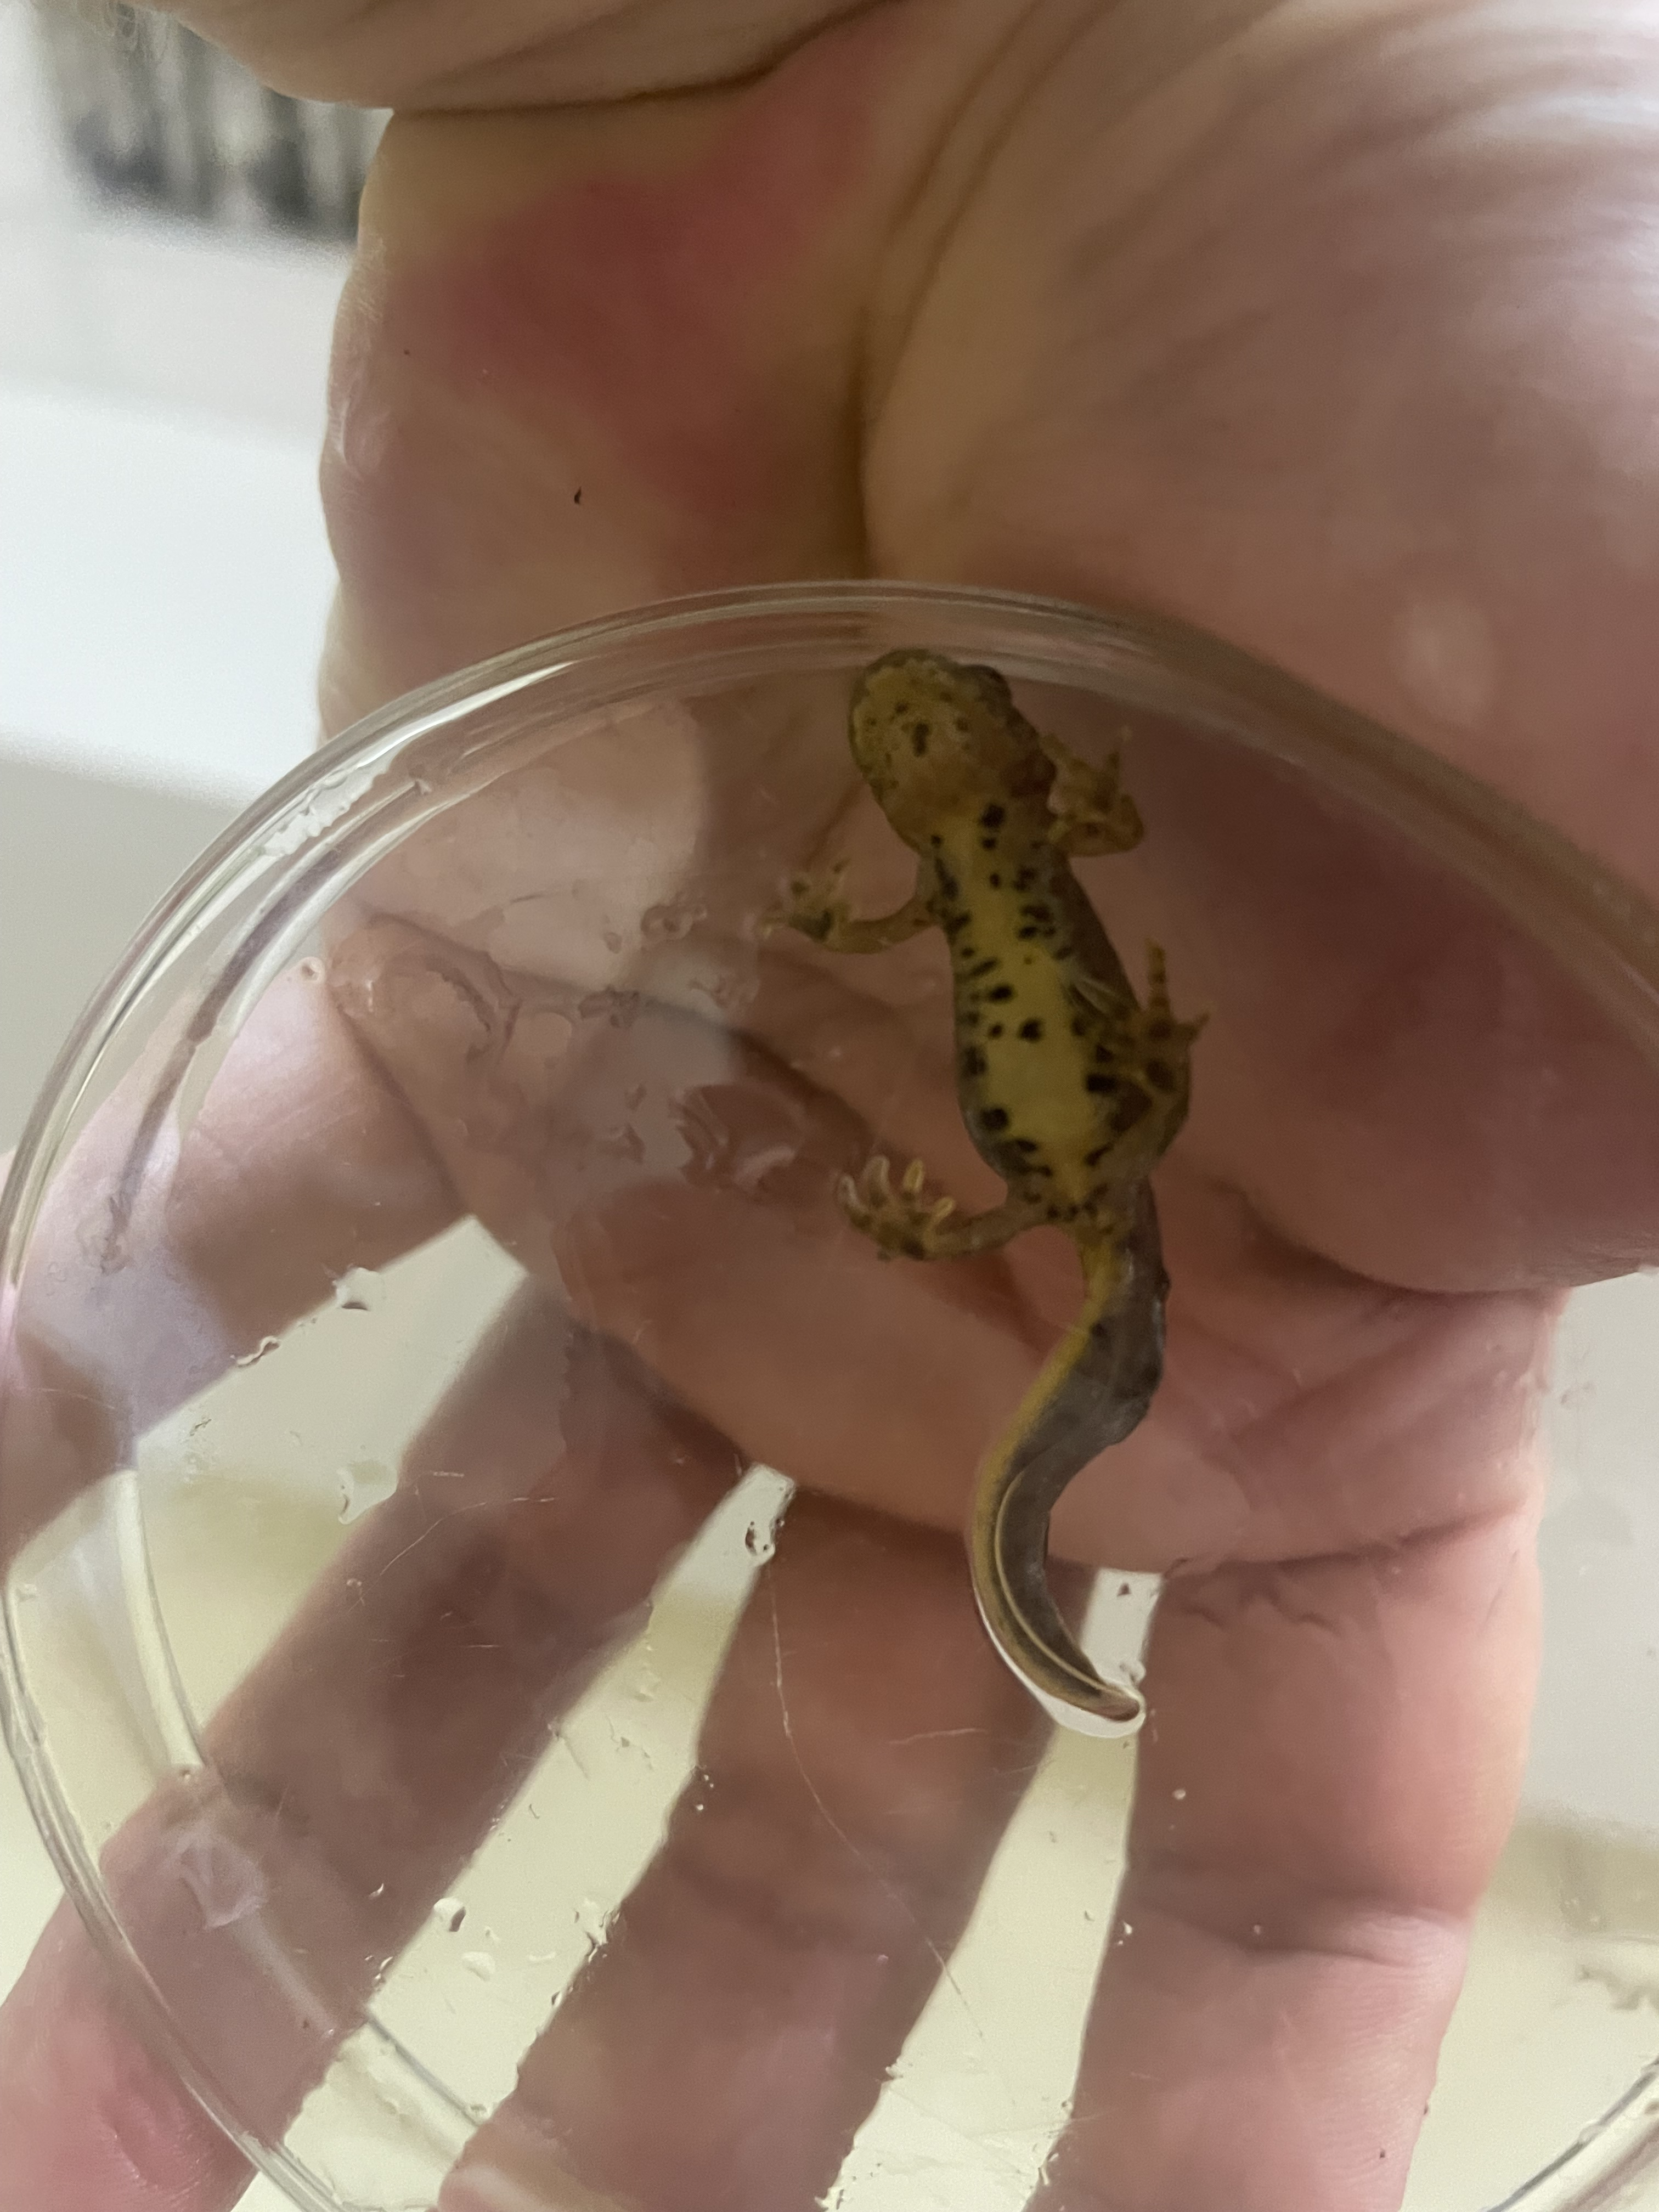Karelin_newt: (938, 859, 1147, 1181)
